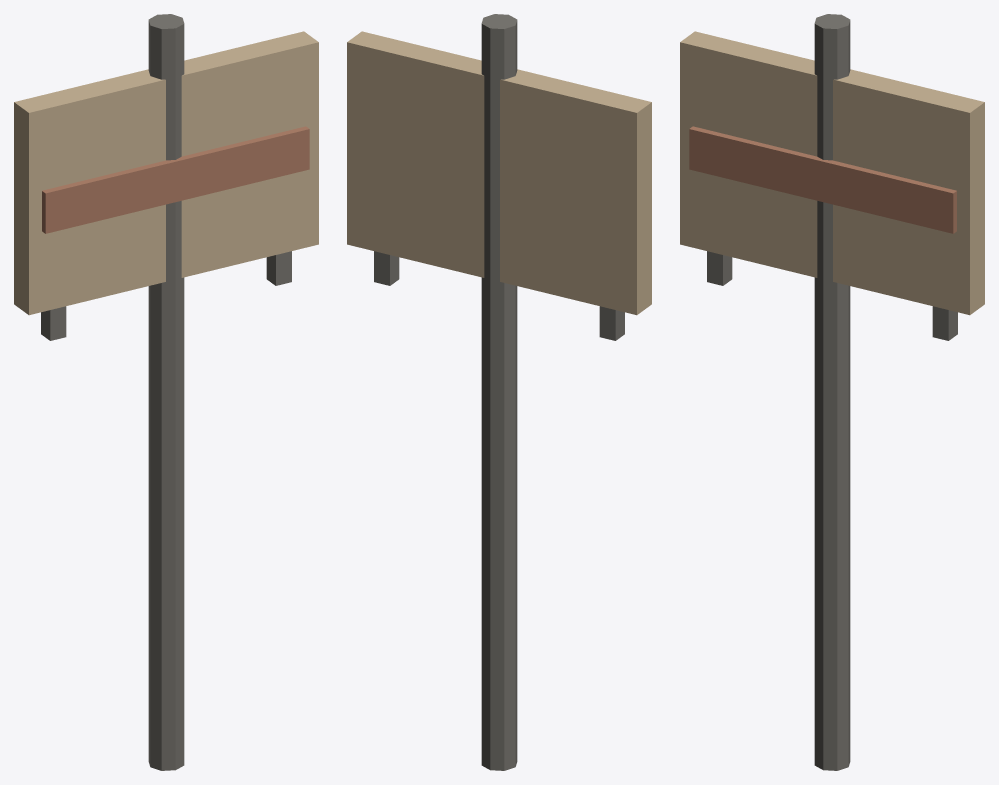
Rendered from roadsign.glb.
3 renders of one model, left to right at view 1: azimuth 30°, elevation 25°; view 2: azimuth 150°, elevation 25°; view 3: azimuth 330°, elevation 25°, orthographic.
Visible parts, largest first — view 1: post; view 2: post; view 3: post.
Part boxes in pixels (box(x1,y1,x2,y2)): post: box(14, 14, 318, 770); post: box(347, 14, 651, 770); post: box(680, 14, 984, 770).
Bounding box in the file's own units: 0.9 × 2.2 × 0.11.
